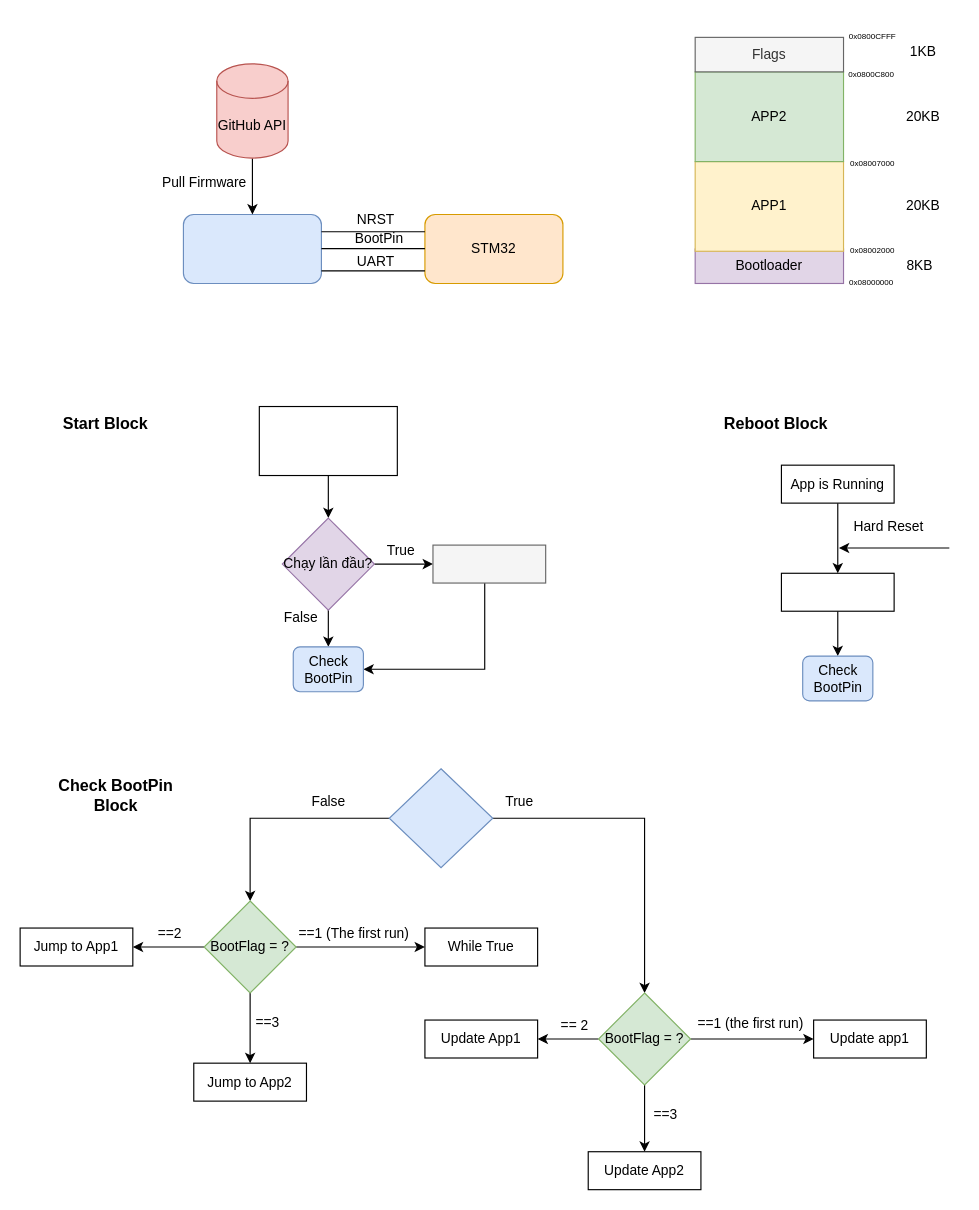
Some shapes in this 979 by 1210 pixel diagram are drawn without their labels. Here are the shapes that lost their labels. From the top down, the centre of each, then its label:
pixel 251 248: ESP32
pixel 327 440: Start
pixel 489 563: FirstRunFlag = 1
pixel 837 591: Restart at 0x080
pixel 440 818: BootPin == 0?
